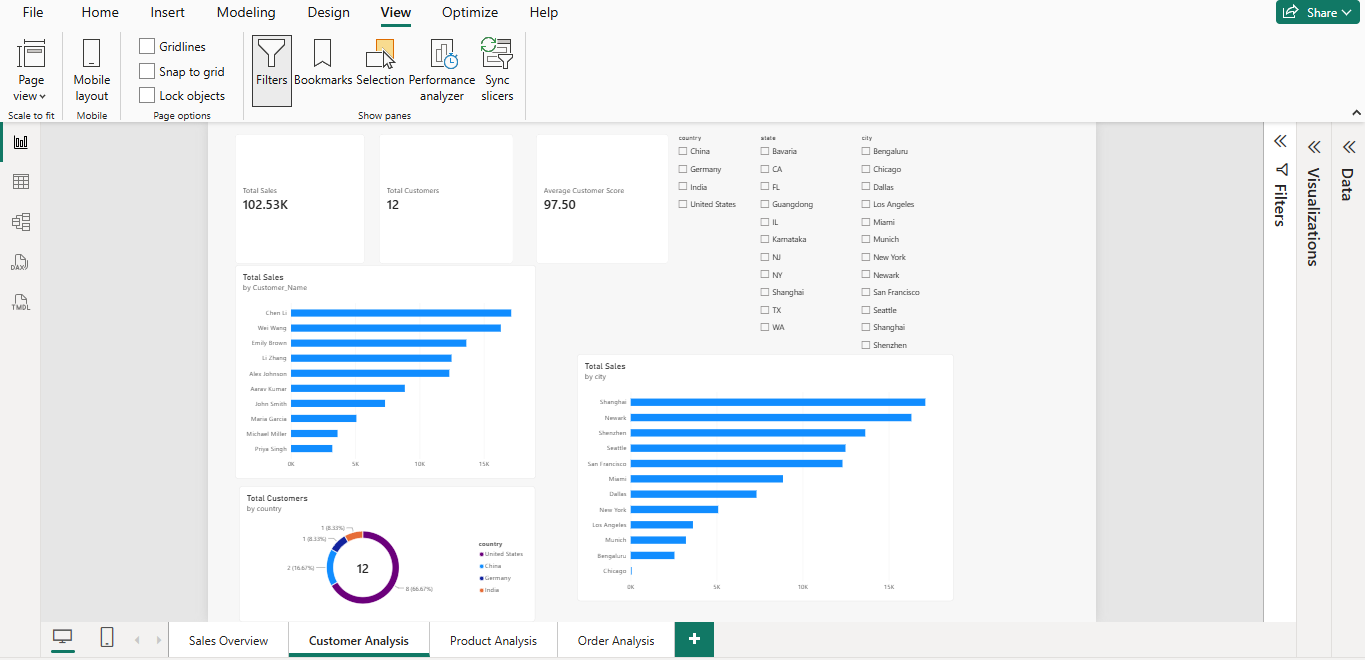

The page's visual inventory and layout, read from the dashboard file:
{"tool":"powerbi","page":{"name":"Customer Analysis","canvas":[1920,1080],"ordinal":1},"visuals":[{"type":"cardVisual","fields":{"Data":["orders.Total Sales"]},"box":[58,26,280,280],"z":0},{"type":"cardVisual","fields":{"Data":["orders.Total Customers"]},"box":[370,26,290,280],"z":1},{"type":"cardVisual","fields":{"Data":["customers.Average Customer Score"]},"box":[708,26,286,280],"z":2},{"type":"slicer","fields":{"Values":["customers.country"]},"box":[1008,26,148,182],"z":4},{"type":"slicer","fields":{"Values":["customers.state"]},"box":[1186,26,218,436],"z":5},{"type":"slicer","fields":{"Values":["customers.city"]},"box":[1404,26,236,476],"z":6},{"type":"barChart","fields":{"Category":["customers.Customer_Name"],"Y":["orders.Total Sales"]},"box":[58,308,650,462],"z":7},{"type":"donutChart","fields":{"Category":["customers.country"],"Y":["orders.Total Customers"]},"box":[68,786,640,294],"z":8},{"type":"barChart","fields":{"Category":["customers.city"],"Y":["orders.Total Sales"]},"box":[798,502,814,534],"z":9}]}

Visuals, with their boxes on the page's 1920x1080 design canvas (x1, y1, x2, y2). These are canvas units, not pixel positions in the 1365x660 screenshot, which may show the page scaled, cropped or inside an application window:
cardVisual - orders.Total Sales: (58, 26, 338, 306)
cardVisual - orders.Total Customers: (370, 26, 660, 306)
cardVisual - customers.Average Customer Score: (708, 26, 994, 306)
slicer - customers.country: (1008, 26, 1156, 208)
slicer - customers.state: (1186, 26, 1404, 462)
slicer - customers.city: (1404, 26, 1640, 502)
barChart - customers.Customer_Name x orders.Total Sales: (58, 308, 708, 770)
donutChart - customers.country x orders.Total Customers: (68, 786, 708, 1080)
barChart - customers.city x orders.Total Sales: (798, 502, 1612, 1036)
